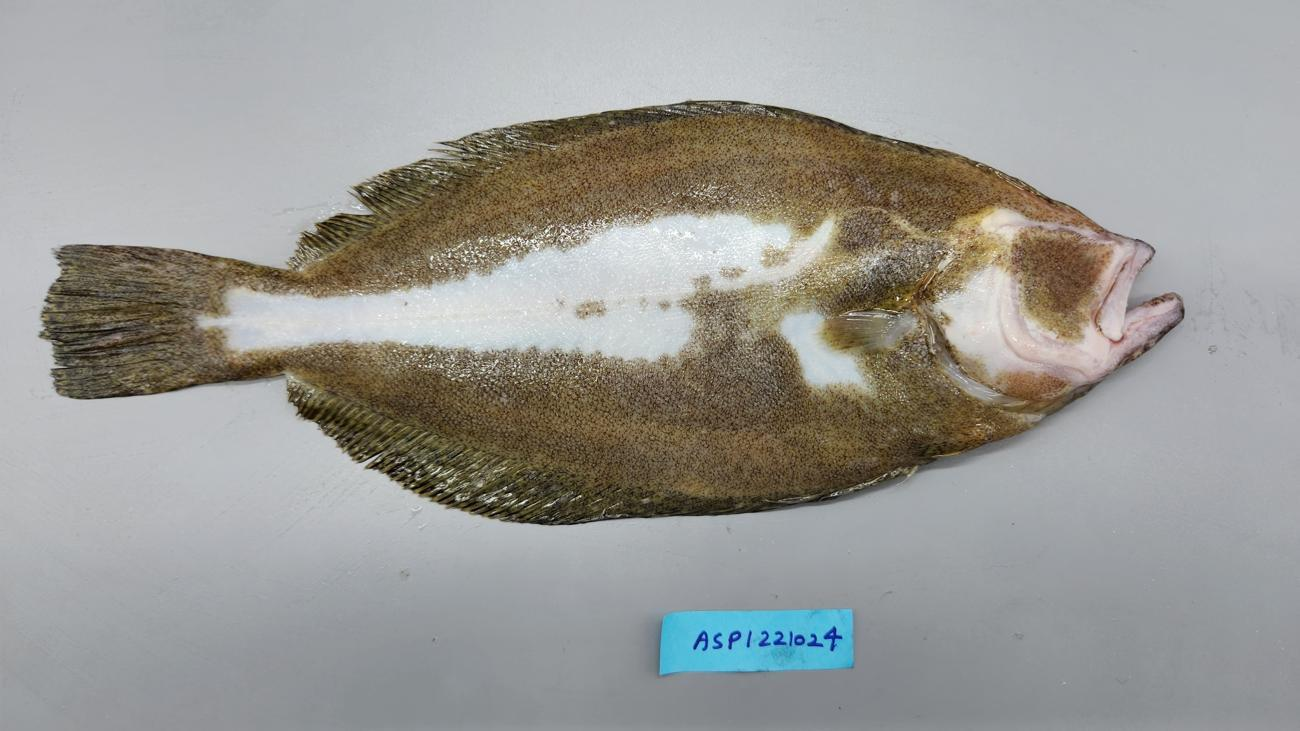SPDYH: (684, 427, 1013, 496), (775, 132, 895, 212), (882, 162, 970, 231), (223, 249, 363, 291), (582, 388, 637, 492), (908, 265, 949, 298)
SPOUY: (26, 93, 1190, 534)
